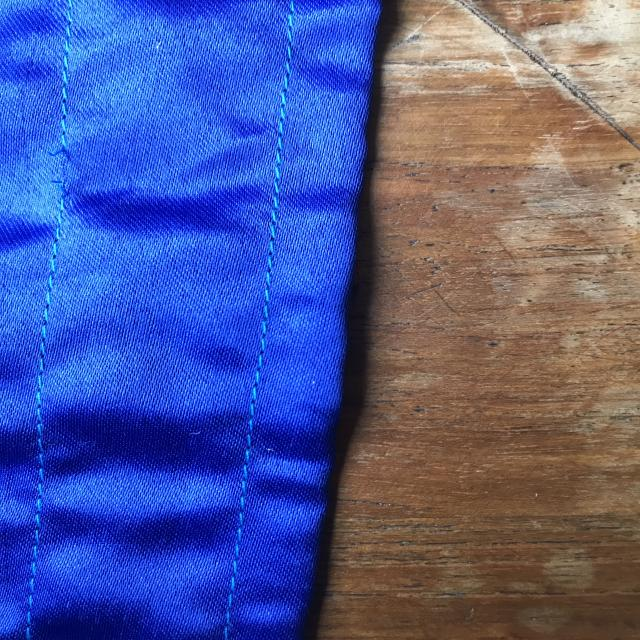good: (247, 288, 283, 402)
